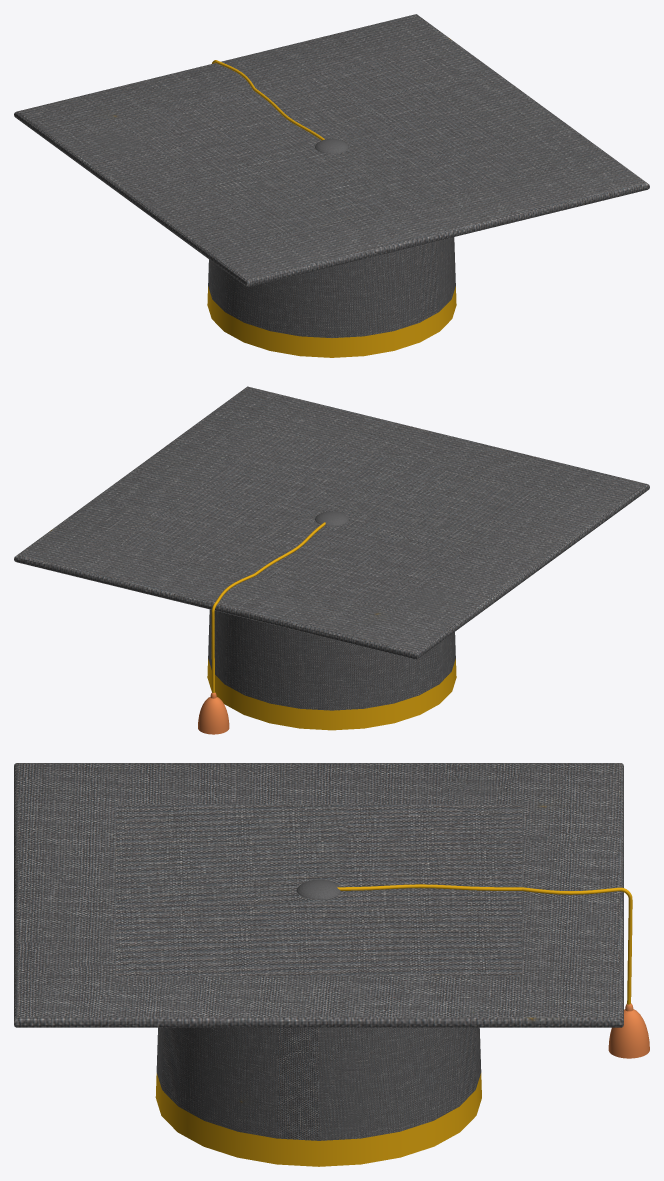
File: crown1.glb
3 views of the same model, one above another, from view 1: azimuth 30°, elevation 25°; view 2: azimuth 150°, elevation 25°; view 3: azimuth 270°, elevation 25° (orthographic). The views are drawn at different scales.
Parts seen in each view (by area): view 1: Cube_0; view 2: Cube_0, Sphere.001_3, Cube.001_2; view 3: Cube_0, Cube.001_2, Sphere.001_3, Sphere_1.
Boxes of the visible parts, box(x1,y1,x2,y2) form: Cube_0: box(14, 14, 649, 357); Cube_0: box(14, 386, 649, 730); Sphere.001_3: box(198, 692, 229, 734); Cube.001_2: box(211, 522, 325, 692); Cube_0: box(14, 763, 623, 1166); Cube.001_2: box(337, 884, 632, 1004); Sphere.001_3: box(608, 1003, 649, 1058); Sphere_1: box(296, 879, 340, 899).
Bounding box in the file's own units: 5.62 × 2.17 × 5.86.
5 materials, 2 textured.
